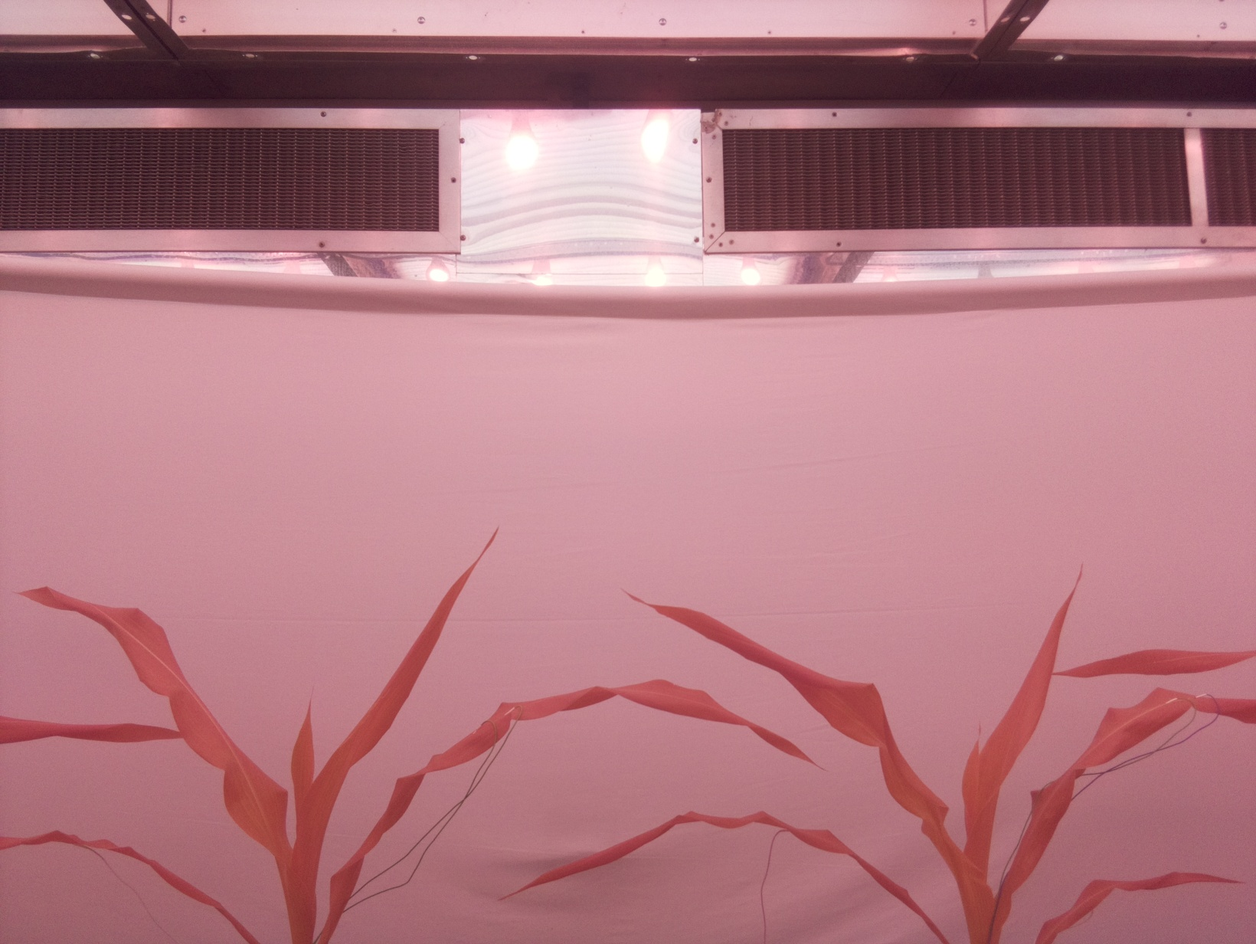maize: (0, 524, 832, 944), (501, 564, 1256, 944)
